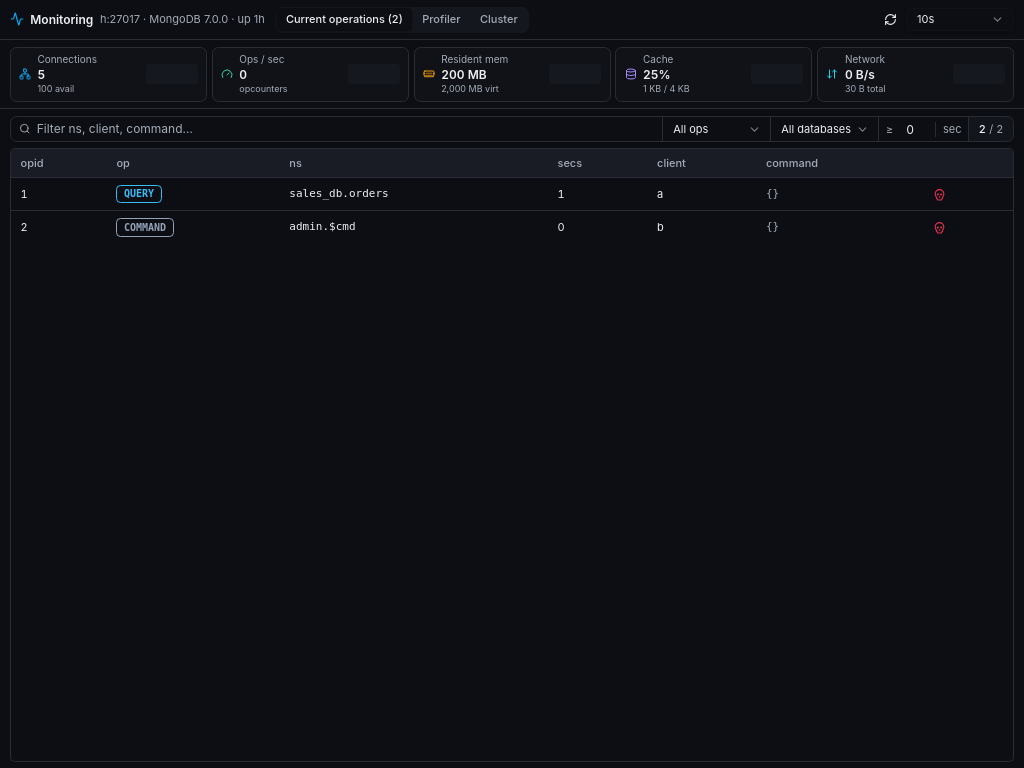
Test: MonitoringView › filters the current-operations list by search text
The width and height of the screenshot is (1024, 768).
Expected: the text "sales_db.orders" is shown, [280,177,548,211]
Expected: the text "admin.$cmd" is shown, [280,211,548,244]
In the field with test id "ops-search": (337, 129) [11,116,662,142], type "orders"
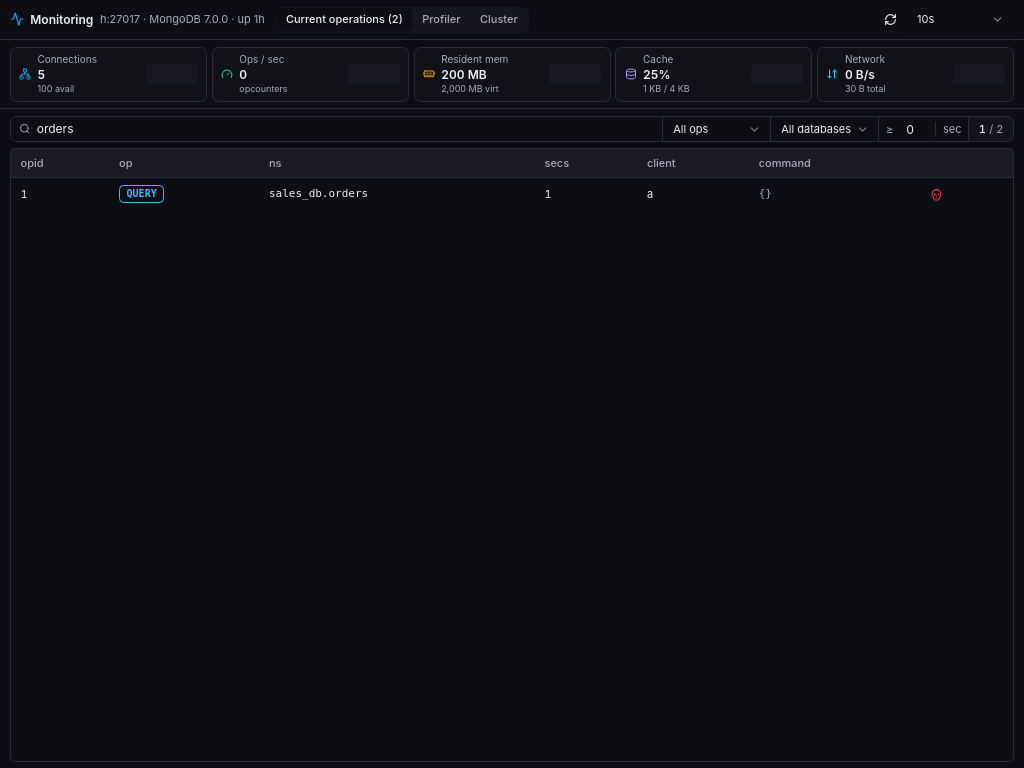
Expected: the text "sales_db.orders" is shown, [259,177,535,210]
Result: the text "admin.$cmd" is gone
